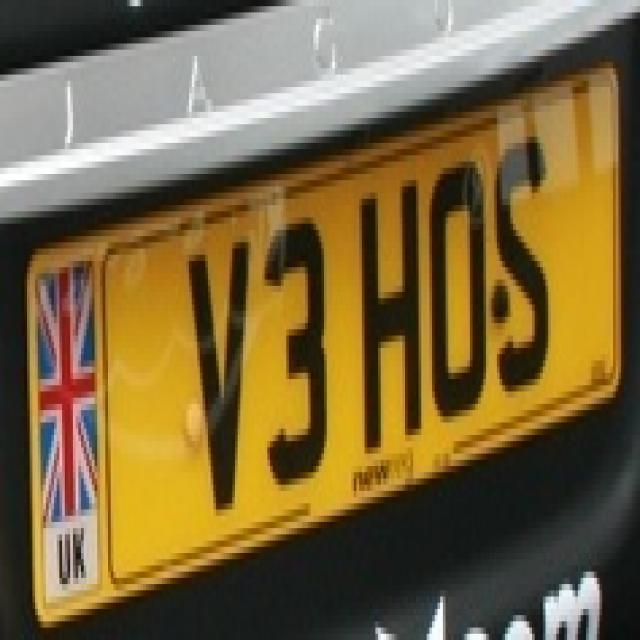LicensePlate: (15, 41, 630, 619)
